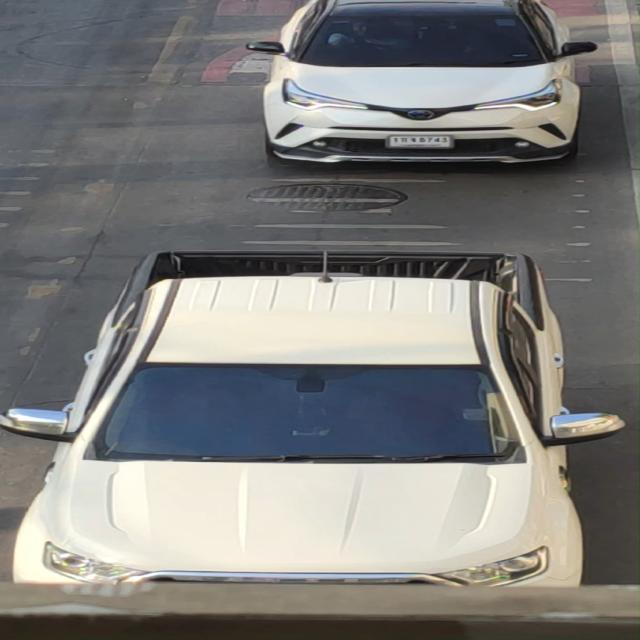car: (0, 247, 640, 562), (215, 0, 613, 174)
